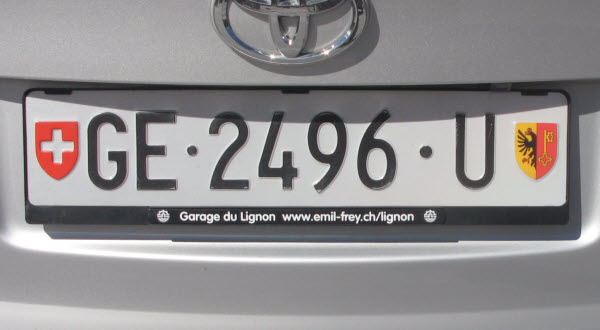license_plate: (23, 90, 569, 210)
